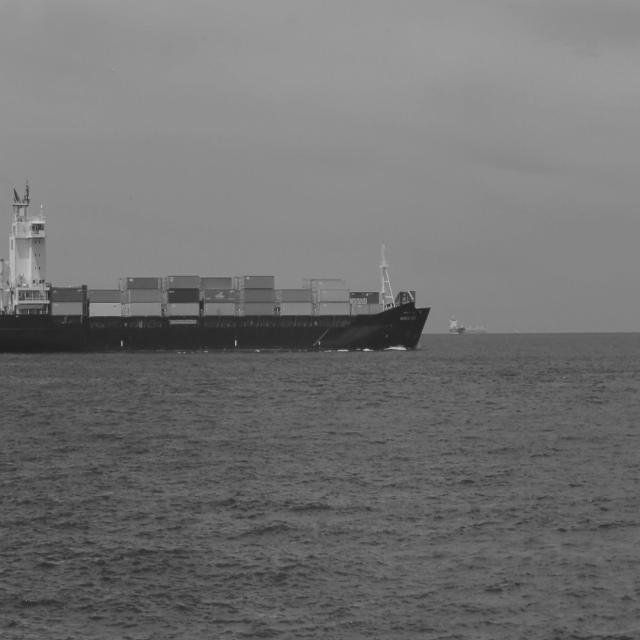ship: (0, 242, 434, 353), (446, 316, 466, 336)
